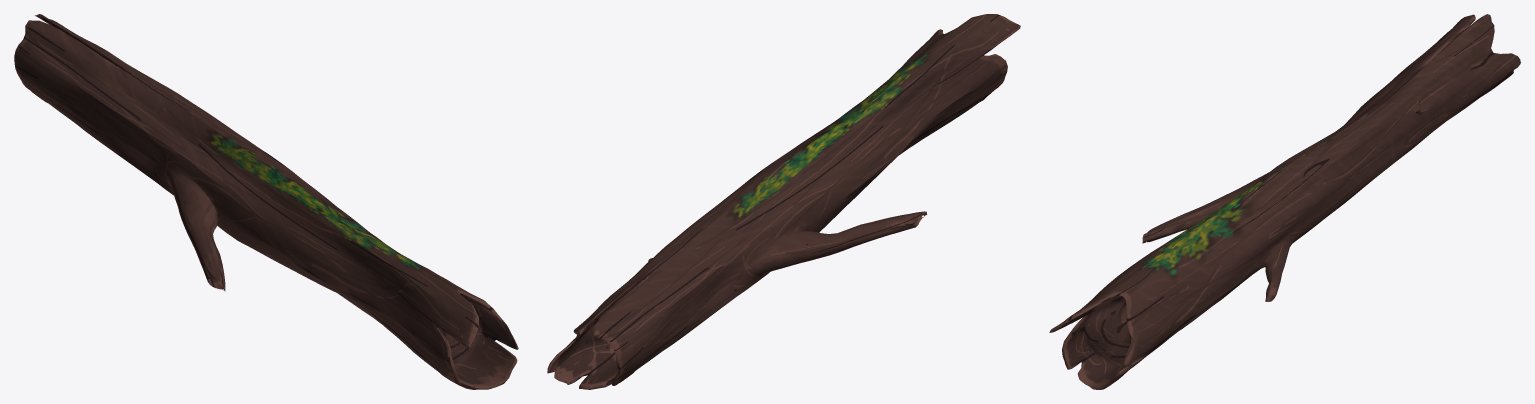
The model's file is Tronco.fbx.
3 views of the same model, side by side, from view 1: azimuth 30°, elevation 25°; view 2: azimuth 150°, elevation 25°; view 3: azimuth 330°, elevation 25° (orthographic). The views are drawn at different scales.
Parts seen in each view (by area): view 1: Tronco_Low; view 2: Tronco_Low; view 3: Tronco_Low.
Boxes of the visible parts, box(x1,y1,x2,y2) form: Tronco_Low: box(14, 14, 518, 389); Tronco_Low: box(547, 14, 1020, 389); Tronco_Low: box(1049, 14, 1520, 389).
Size of the model in its own units: 0.1905 by 0.9279 by 0.0957.
Materials: 1 (1 with a texture image).
